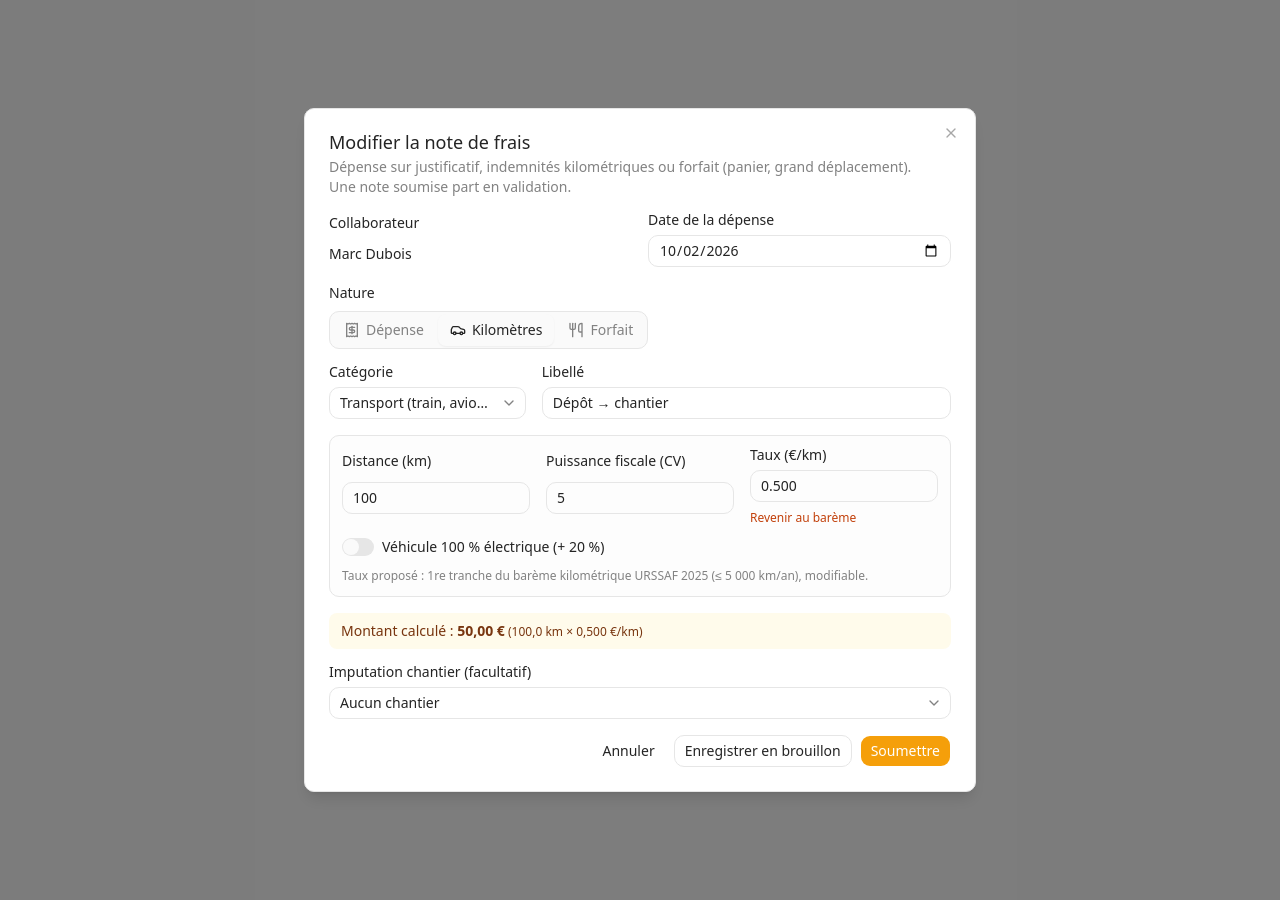
Scenario: NoteFraisDialog — taux kilométrique personnalisé › conserve un taux saisi à la main, puis revient au barème sur demande
Expected: the field labelled "Taux (€/km)" holds "0.500", [750,470,938,502]
Replace the text in the number field labelled "Puissance fiscale (CV)" with "6" at (640, 498), box [546,482,734,514]
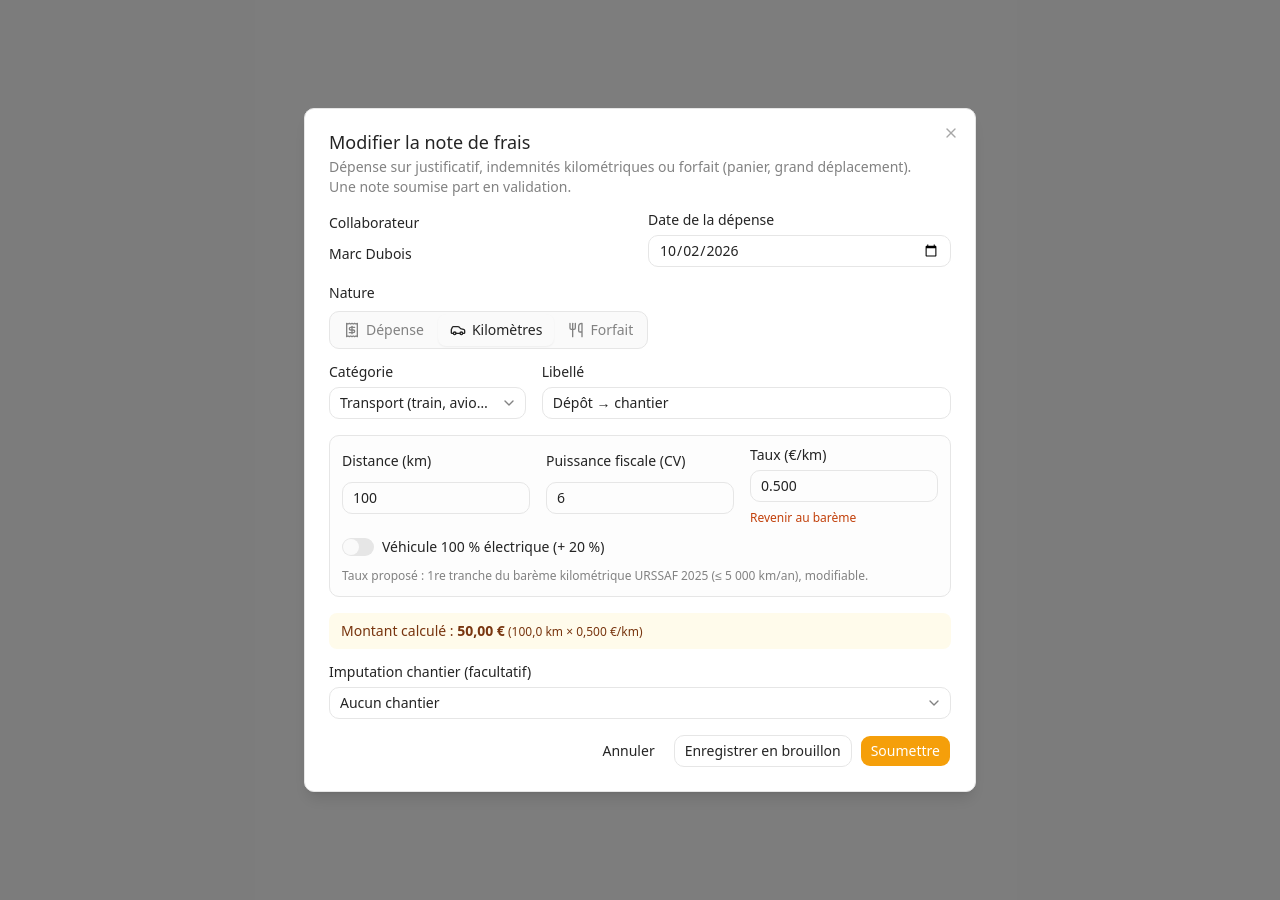
Expected: the field labelled "Taux (€/km)" holds "0.500", [750,470,938,502]
Click the button "Revenir au barème" at (803, 518), box [750,510,856,526]
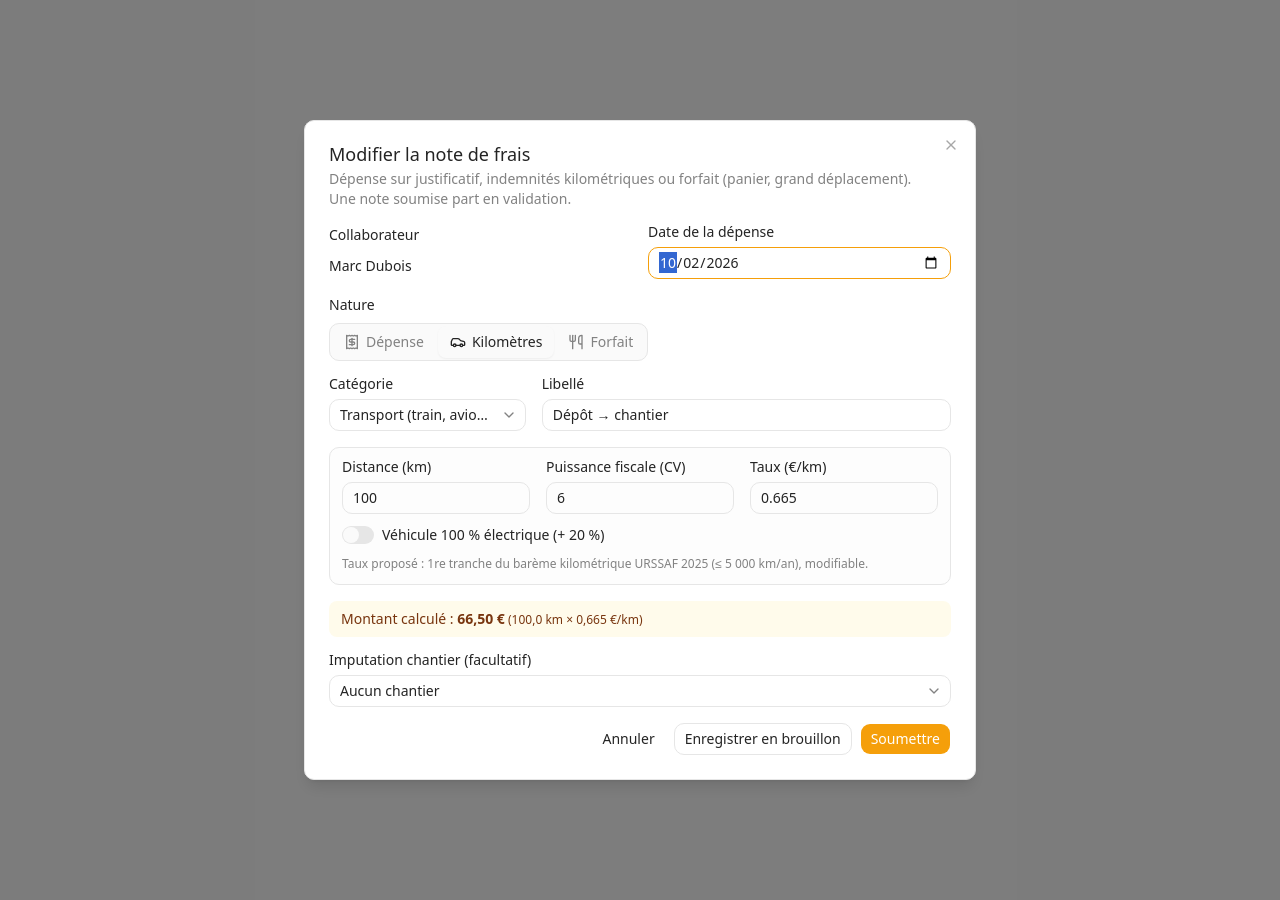
Expected: the field labelled "Taux (€/km)" holds "0.665", [750,482,938,514]
